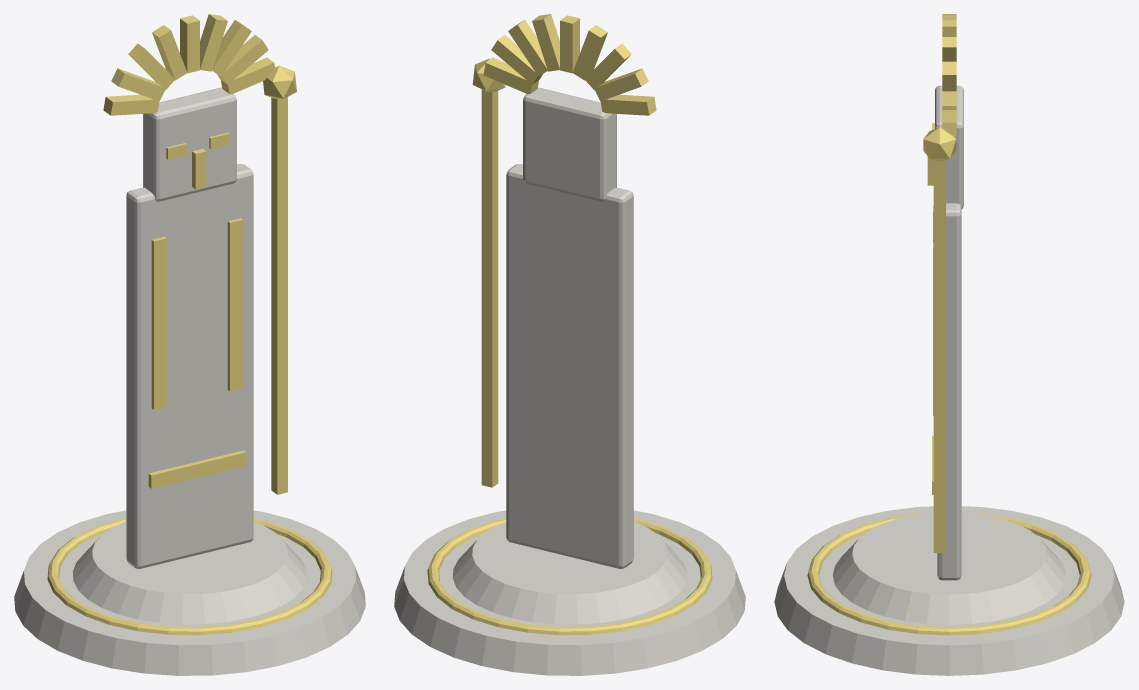
File: MuseoDelOro_Rey.fbx
3 renders of one model, left to right at view 1: azimuth 30°, elevation 25°; view 2: azimuth 150°, elevation 25°; view 3: azimuth 270°, elevation 25°, orthographic.
Parts seen in each view (by area): view 1: MuseoDelOro_Rey; view 2: MuseoDelOro_Rey; view 3: MuseoDelOro_Rey.
Boxes of the visible parts, bbox=[...] form: MuseoDelOro_Rey: bbox=[14, 14, 365, 675]; MuseoDelOro_Rey: bbox=[394, 14, 745, 675]; MuseoDelOro_Rey: bbox=[774, 14, 1124, 675].
Bounding box in the file's own units: 0.72 × 1.31 × 0.72.
